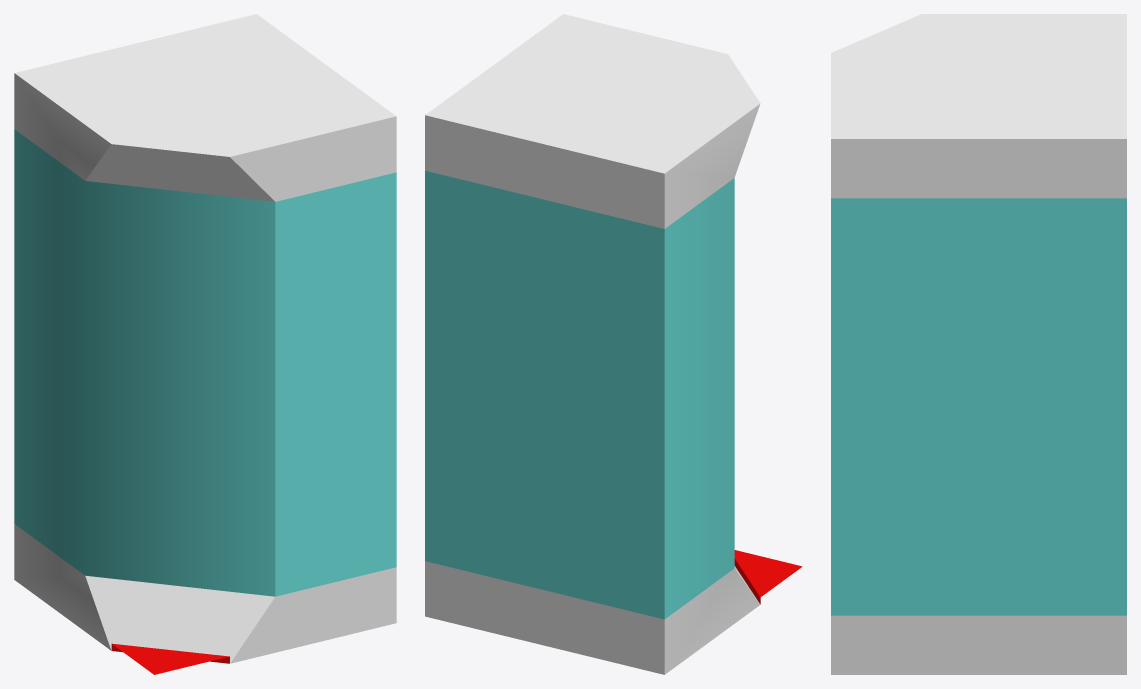
Rendered from Wall-ClosedTurn.fbx.
3 renders of one model, left to right at view 1: azimuth 30°, elevation 25°; view 2: azimuth 150°, elevation 25°; view 3: azimuth 270°, elevation 25°, orthographic. The views are drawn at different scales.
Visible parts, largest first — view 1: ClosedTurn; view 2: ClosedTurn; view 3: ClosedTurn.
Part boxes in pixels (left/top/right/bottom): ClosedTurn: left=14, top=14, right=396, bottom=674; ClosedTurn: left=425, top=14, right=802, bottom=674; ClosedTurn: left=831, top=14, right=1126, bottom=674.
Size of the model in its own units: 78.75 by 157 by 78.74.
